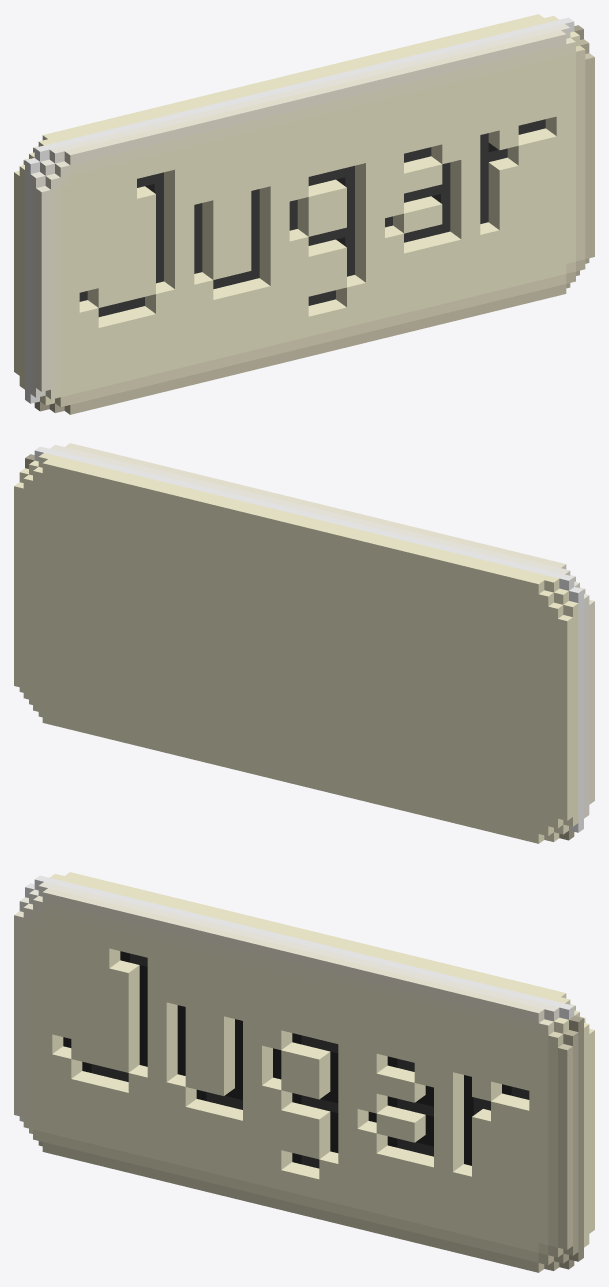
The model's file is Jugar.obj.
The picture shows the model from 3 angles, top to bottom: view 1: azimuth 30°, elevation 25°; view 2: azimuth 150°, elevation 25°; view 3: azimuth 330°, elevation 25°; orthographic projection.
Size of the model in its own units: 5.8 by 2.6 by 0.5.
Materials: 1 (1 with a texture image).
